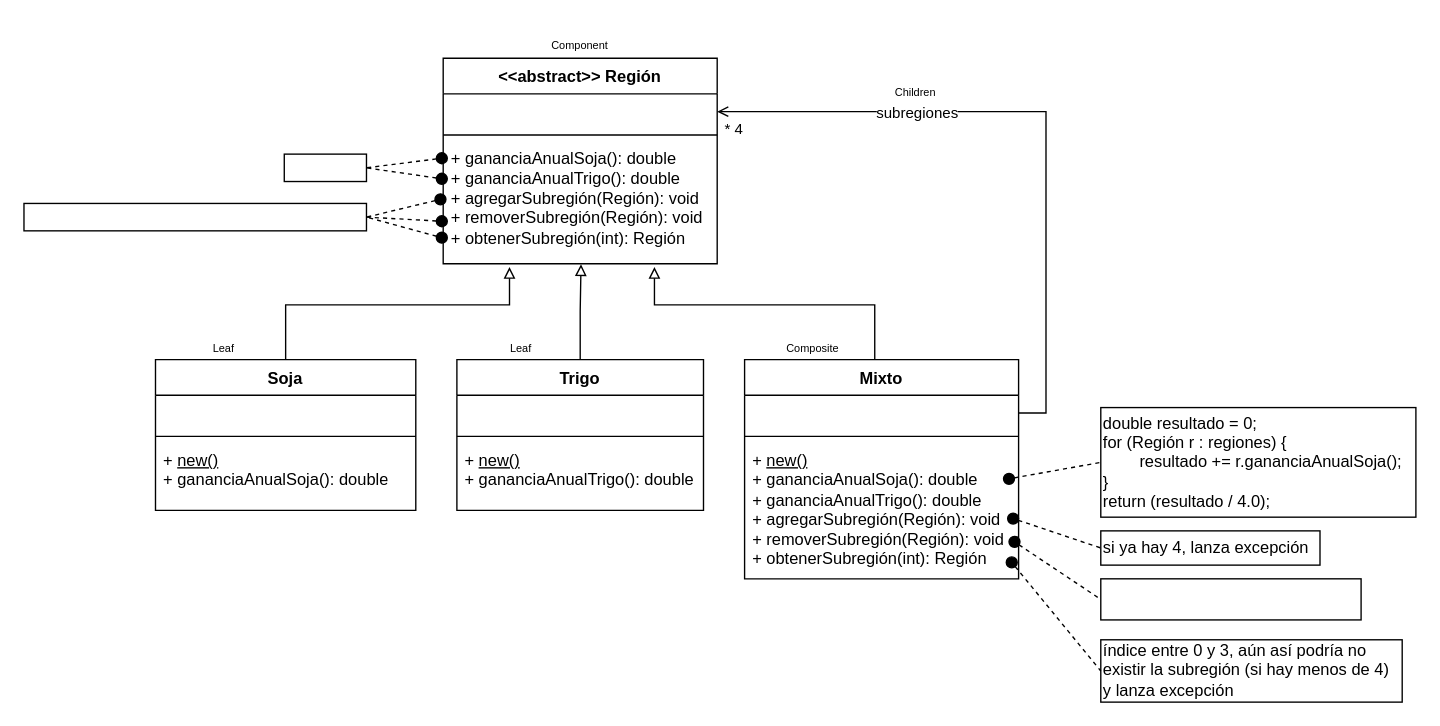
This 1440x726 diagram has some shape labels left out. The shapes that lost their labels are listed below. From the top down, each one's centre as x and y in pixels, then its label:
At point (324, 167): "return 0;".
At point (194, 216): "throw new UnsupportedOperationException();".
At point (1230, 598): "si la Región argumento no es subregión, lanza excepción".
